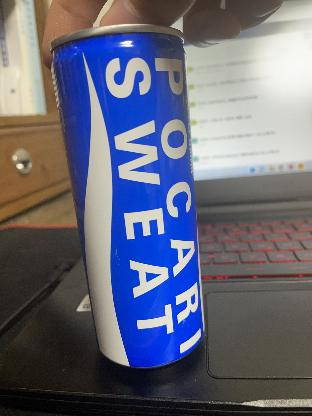Can: (52, 20, 212, 370)
